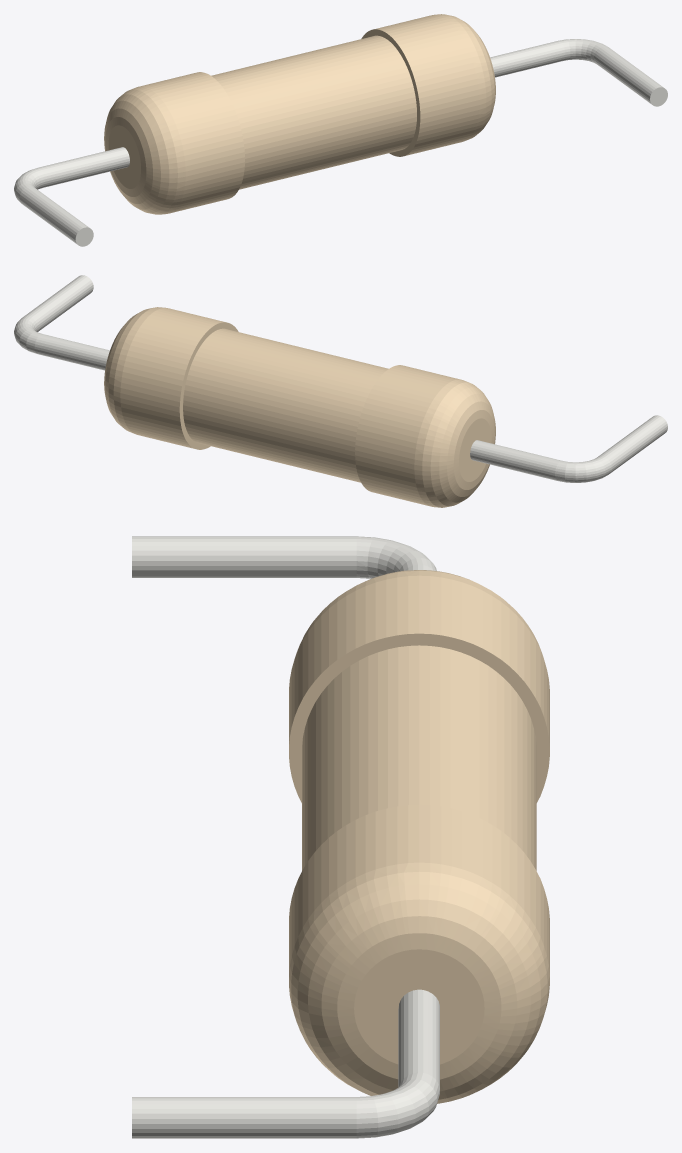
Rendered from R_Axial_DIN0516_L15.5mm_D5.0mm_P25.40mm_Horizontal.glb.
3 renders of one model, top to bottom at view 1: azimuth 30°, elevation 25°; view 2: azimuth 150°, elevation 25°; view 3: azimuth 270°, elevation 25°, orthographic. The views are drawn at different scales.
Parts seen in each view (by area): view 1: Shape_IndexedFaceSet.004, Shape_IndexedFaceSet.008, Shape_IndexedFaceSet, Shape_IndexedFaceSet.010, Shape_IndexedFaceSet.001, Shape_IndexedFaceSet.013, Shape_IndexedFaceSet.005, Shape_IndexedFaceSet.015, Shape_IndexedFaceSet.009, Shape_IndexedFaceSet.012, Shape_IndexedFaceSet.002, Shape_IndexedFaceSet.007 (+1 smaller); view 2: Shape_IndexedFaceSet.004, Shape_IndexedFaceSet, Shape_IndexedFaceSet.008, Shape_IndexedFaceSet.010, Shape_IndexedFaceSet.001, Shape_IndexedFaceSet.013, Shape_IndexedFaceSet.005, Shape_IndexedFaceSet.015, Shape_IndexedFaceSet.009, Shape_IndexedFaceSet.012, Shape_IndexedFaceSet.014, Shape_IndexedFaceSet.002 (+1 smaller); view 3: Shape_IndexedFaceSet.004, Shape_IndexedFaceSet.001, Shape_IndexedFaceSet.008, Shape_IndexedFaceSet, Shape_IndexedFaceSet.009, Shape_IndexedFaceSet.015, Shape_IndexedFaceSet.003, Shape_IndexedFaceSet.006, Shape_IndexedFaceSet.007, Shape_IndexedFaceSet.005, Shape_IndexedFaceSet.014, Shape_IndexedFaceSet.010.
Part boxes in pixels (<box>): Shape_IndexedFaceSet.004: <box>211,35,416,189</box>; Shape_IndexedFaceSet.008: <box>140,72,244,213</box>; Shape_IndexedFaceSet: <box>374,15,479,155</box>; Shape_IndexedFaceSet.010: <box>104,86,185,214</box>; Shape_IndexedFaceSet.001: <box>434,14,495,140</box>; Shape_IndexedFaceSet.013: <box>38,147,129,187</box>; Shape_IndexedFaceSet.005: <box>490,41,565,77</box>; Shape_IndexedFaceSet.015: <box>19,186,89,243</box>; Shape_IndexedFaceSet.009: <box>594,46,663,104</box>; Shape_IndexedFaceSet.012: <box>108,125,140,188</box>; Shape_IndexedFaceSet.002: <box>361,29,420,156</box>; Shape_IndexedFaceSet.007: <box>558,39,607,63</box>; Shape_IndexedFaceSet.004: <box>183,328,388,482</box>; Shape_IndexedFaceSet: <box>120,308,225,448</box>; Shape_IndexedFaceSet.008: <box>355,365,460,506</box>; Shape_IndexedFaceSet.010: <box>414,379,495,507</box>; Shape_IndexedFaceSet.001: <box>104,307,165,433</box>; Shape_IndexedFaceSet.013: <box>470,440,561,480</box>; Shape_IndexedFaceSet.005: <box>34,334,109,370</box>; Shape_IndexedFaceSet.015: <box>598,415,667,473</box>; Shape_IndexedFaceSet.009: <box>23,275,93,331</box>; Shape_IndexedFaceSet.012: <box>459,418,491,481</box>; Shape_IndexedFaceSet.014: <box>555,456,611,482</box>; Shape_IndexedFaceSet.002: <box>179,322,238,449</box>; Shape_IndexedFaceSet.004: <box>302,645,536,870</box>; Shape_IndexedFaceSet.001: <box>289,862,549,1103</box>; Shape_IndexedFaceSet.008: <box>289,575,549,746</box>; Shape_IndexedFaceSet: <box>289,804,549,975</box>; Shape_IndexedFaceSet.009: <box>132,1097,356,1138</box>; Shape_IndexedFaceSet.015: <box>132,536,356,577</box>; Shape_IndexedFaceSet.003: <box>354,949,484,1064</box>; Shape_IndexedFaceSet.006: <box>289,633,549,802</box>; Shape_IndexedFaceSet.007: <box>356,1072,439,1138</box>; Shape_IndexedFaceSet.005: <box>398,989,439,1087</box>; Shape_IndexedFaceSet.014: <box>356,536,436,578</box>; Shape_IndexedFaceSet.010: <box>295,570,543,656</box>.
Size of the model in its own units: 10.31 by 1.97 by 3.15.
